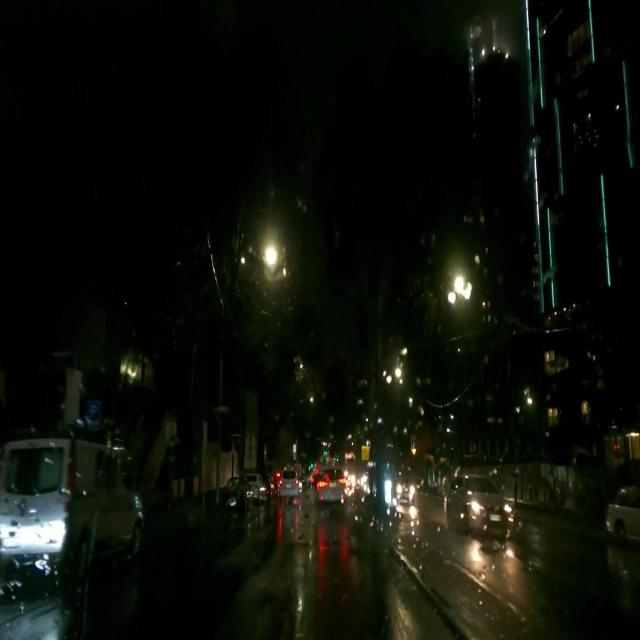Car: (0, 431, 145, 567), (446, 476, 509, 536), (313, 464, 348, 502), (278, 466, 299, 497)
